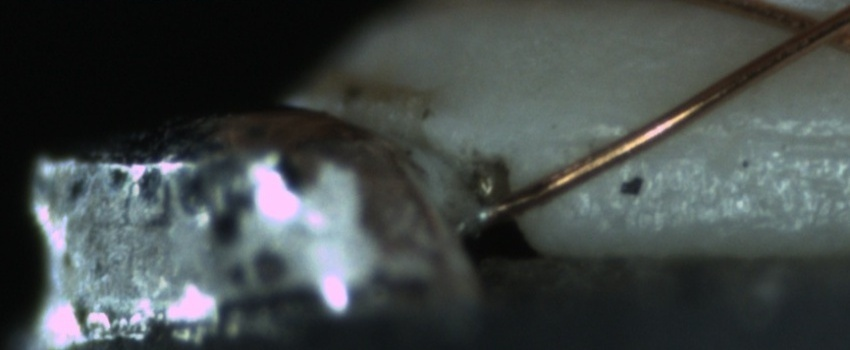CL: (771, 2, 848, 58)
DL: (562, 103, 849, 174)
